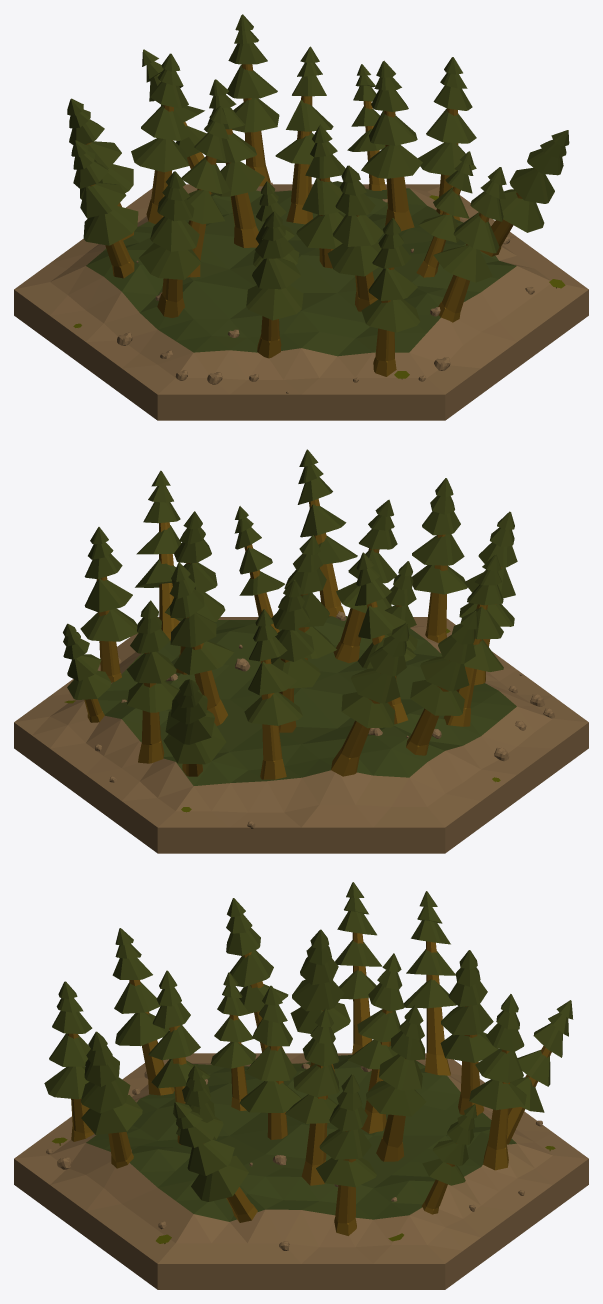
The model's file is temperateRainforest.glb.
The picture shows the model from 3 angles, top to bottom: view 1: azimuth 30°, elevation 25°; view 2: azimuth 150°, elevation 25°; view 3: azimuth 270°, elevation 25°; orthographic projection.
Visible parts, largest first — view 1: land, trees, rocks; view 2: land, trees, rocks; view 3: trees, land, rocks.
Boxes of the visible parts, box(x1,y1,x2,y2) form: land: box(14, 181, 588, 420); trees: box(67, 14, 569, 376); rocks: box(117, 182, 534, 393); land: box(14, 616, 588, 853); trees: box(63, 449, 517, 779); rocks: box(95, 611, 555, 828); trees: box(44, 882, 573, 1235); land: box(14, 1053, 588, 1289); rocks: box(46, 1060, 542, 1250).
Bounding box in the file's own units: 1.73 × 0.8552 × 2.
